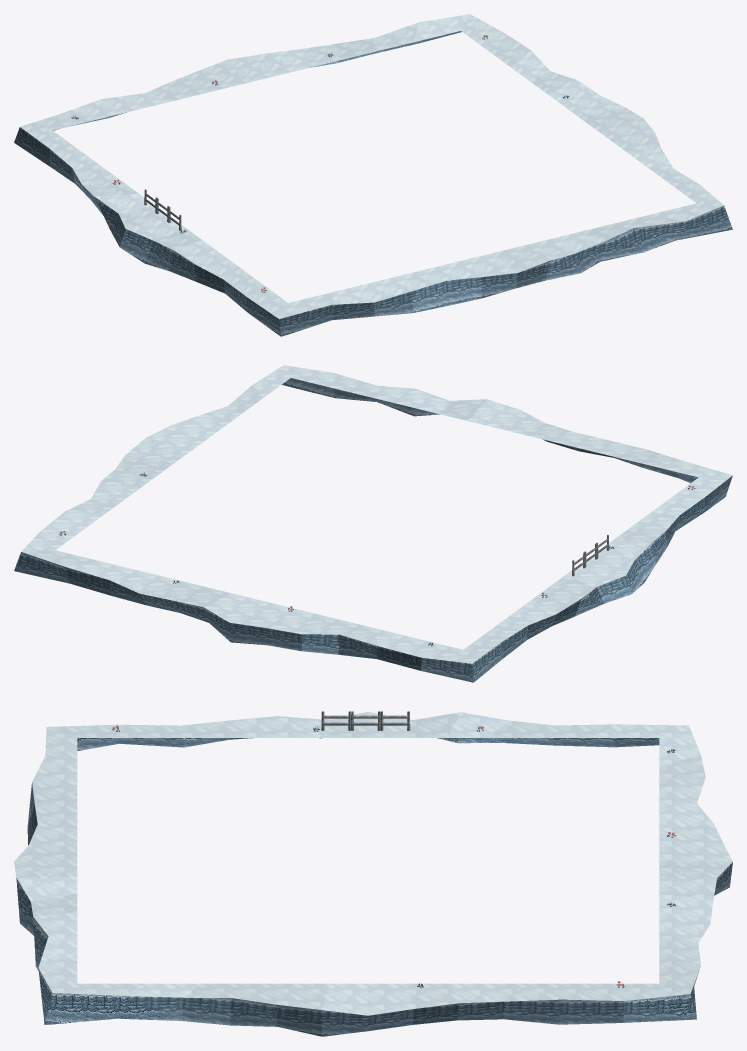
Rendered from entorno_18.glb.
3 views of the same model, one above another, from view 1: azimuth 30°, elevation 25°; view 2: azimuth 150°, elevation 25°; view 3: azimuth 270°, elevation 25° (orthographic). The views are drawn at different scales.
Visible parts, largest first — view 1: neve_entorno_18; view 2: neve_entorno_18; view 3: neve_entorno_18.
Boxes of the visible parts, box(x1,y1,x2,y2) form: neve_entorno_18: box(14, 14, 732, 336); neve_entorno_18: box(14, 365, 732, 682); neve_entorno_18: box(14, 711, 732, 1036).
Size of the model in its own units: 22.6 by 1.69 by 22.49.
7 materials, 5 textured.
